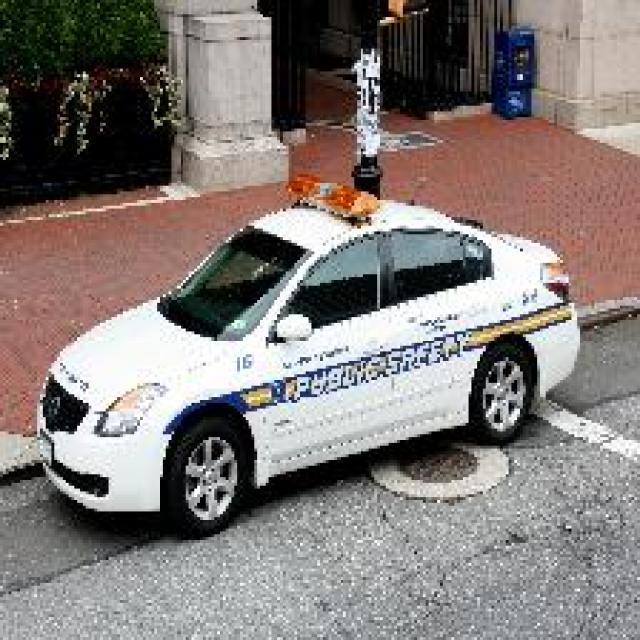Police-car: (34, 172, 580, 537)
